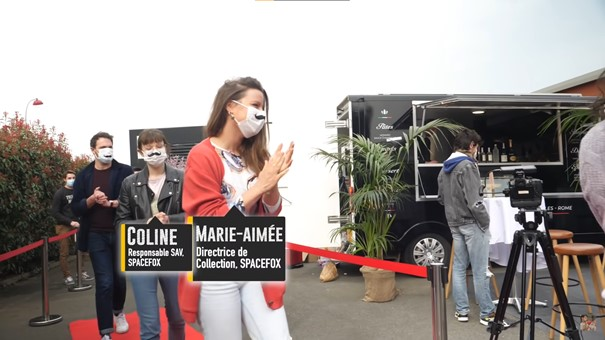with_mask: (224, 95, 267, 141), (139, 142, 169, 167), (89, 141, 119, 164), (65, 172, 75, 186)
